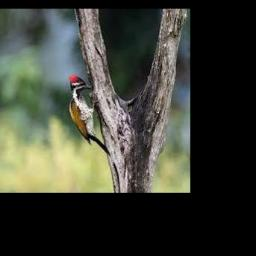Woodpecker: (69, 76, 110, 155)
